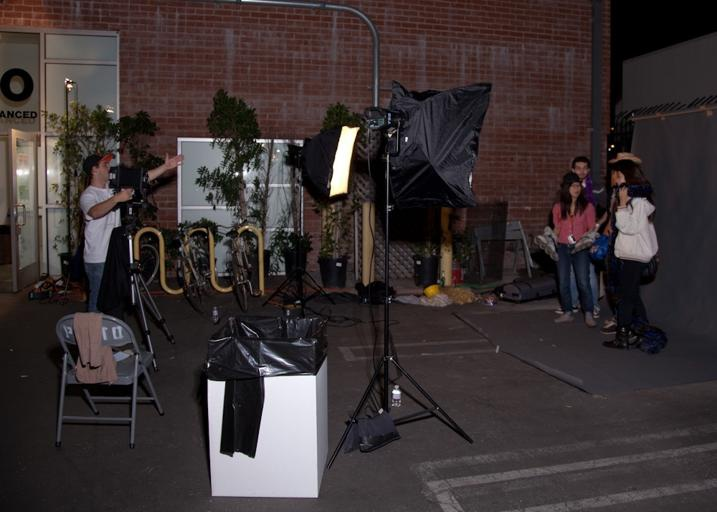non-vehicle: (214, 217, 261, 312), (177, 221, 209, 318)
